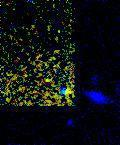star: (32, 65, 62, 95)
